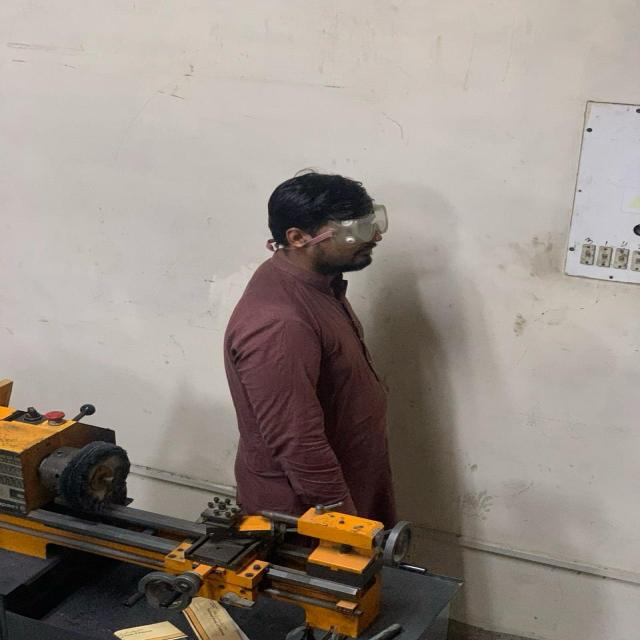googles: (328, 203, 390, 246)
